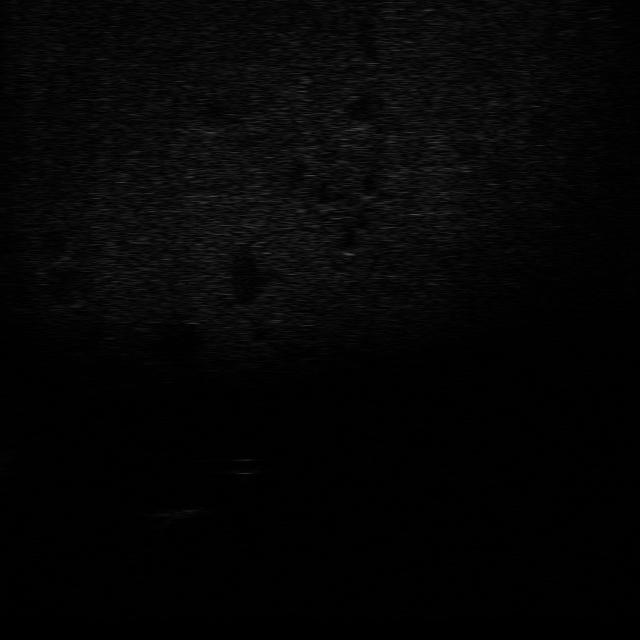ball: (216, 449, 268, 483)
square cage: (134, 494, 218, 530)
